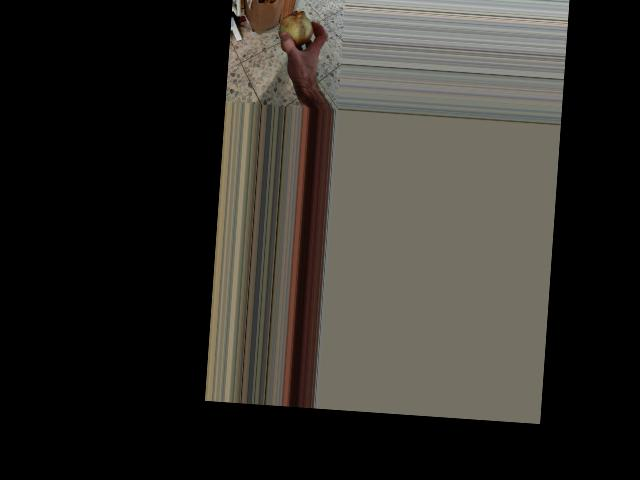onion: (274, 8, 318, 57)
